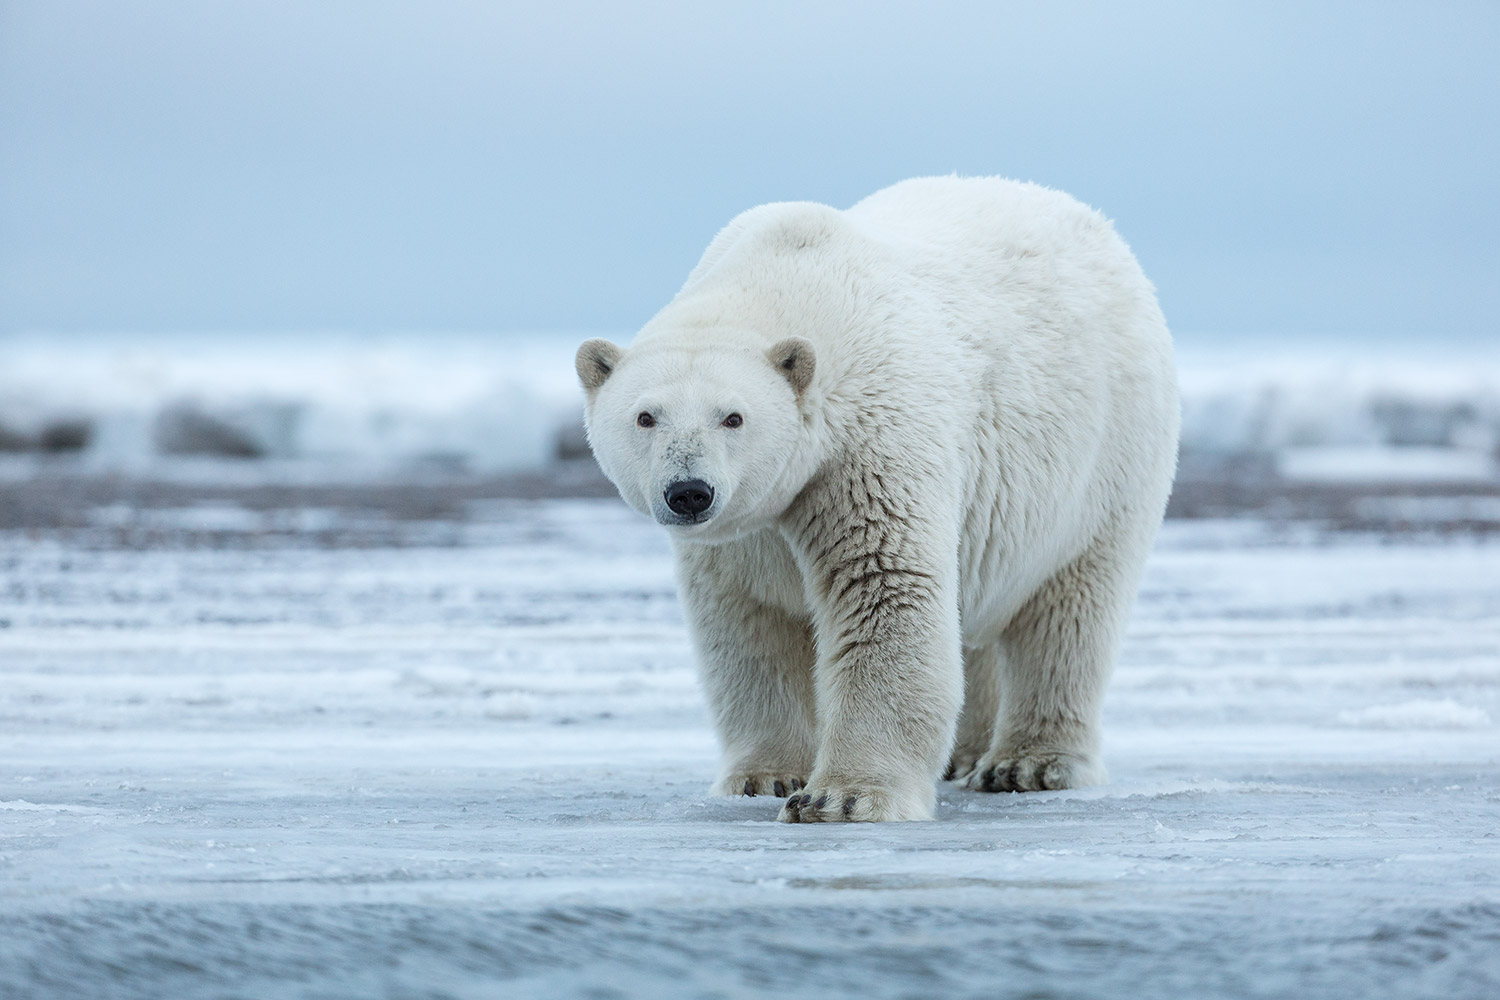Polar Bear: (541, 102, 1263, 902)
